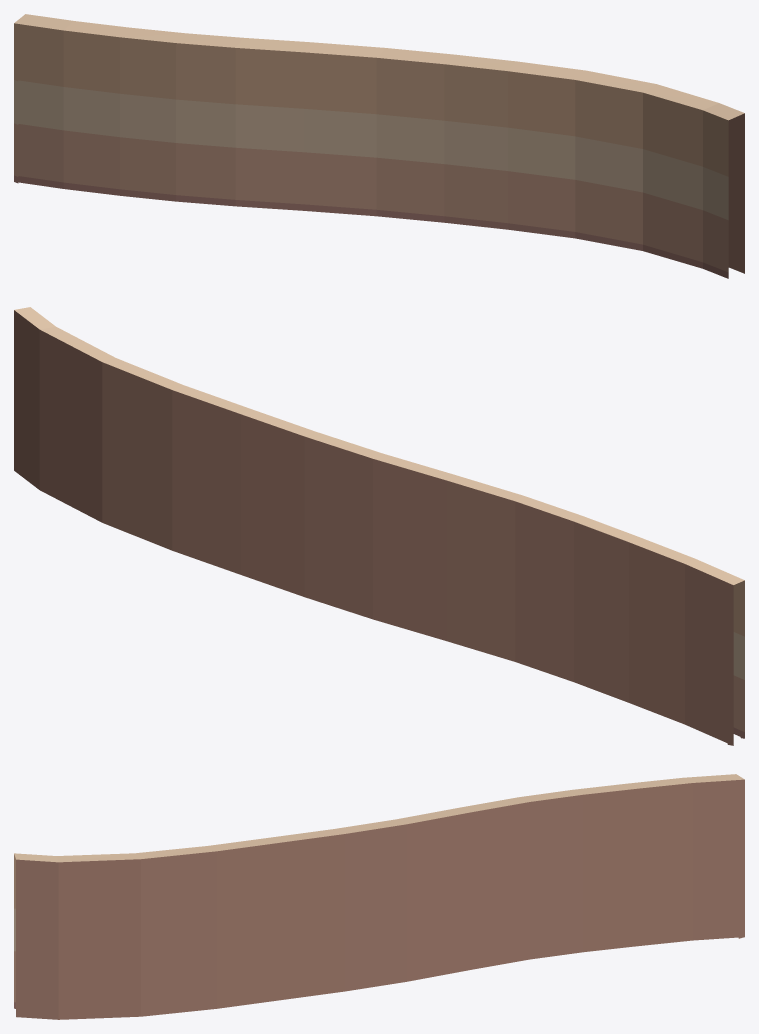
File: pared_derecha_2.glb
The picture shows the model from 3 angles, top to bottom: view 1: azimuth 30°, elevation 25°; view 2: azimuth 210°, elevation 25°; view 3: azimuth 270°, elevation 25°; orthographic projection. The views are drawn at different scales.
Visible parts, largest first — view 1: pared_derecha_2; view 2: pared_derecha_2; view 3: pared_derecha_2.
Part boxes in pixels (box(x1,y1,x2,y2)): pared_derecha_2: box(14, 14, 744, 278); pared_derecha_2: box(14, 307, 744, 745); pared_derecha_2: box(14, 774, 744, 1019).
Size of the model in its own units: 17.53 by 11.48 by 31.12.
